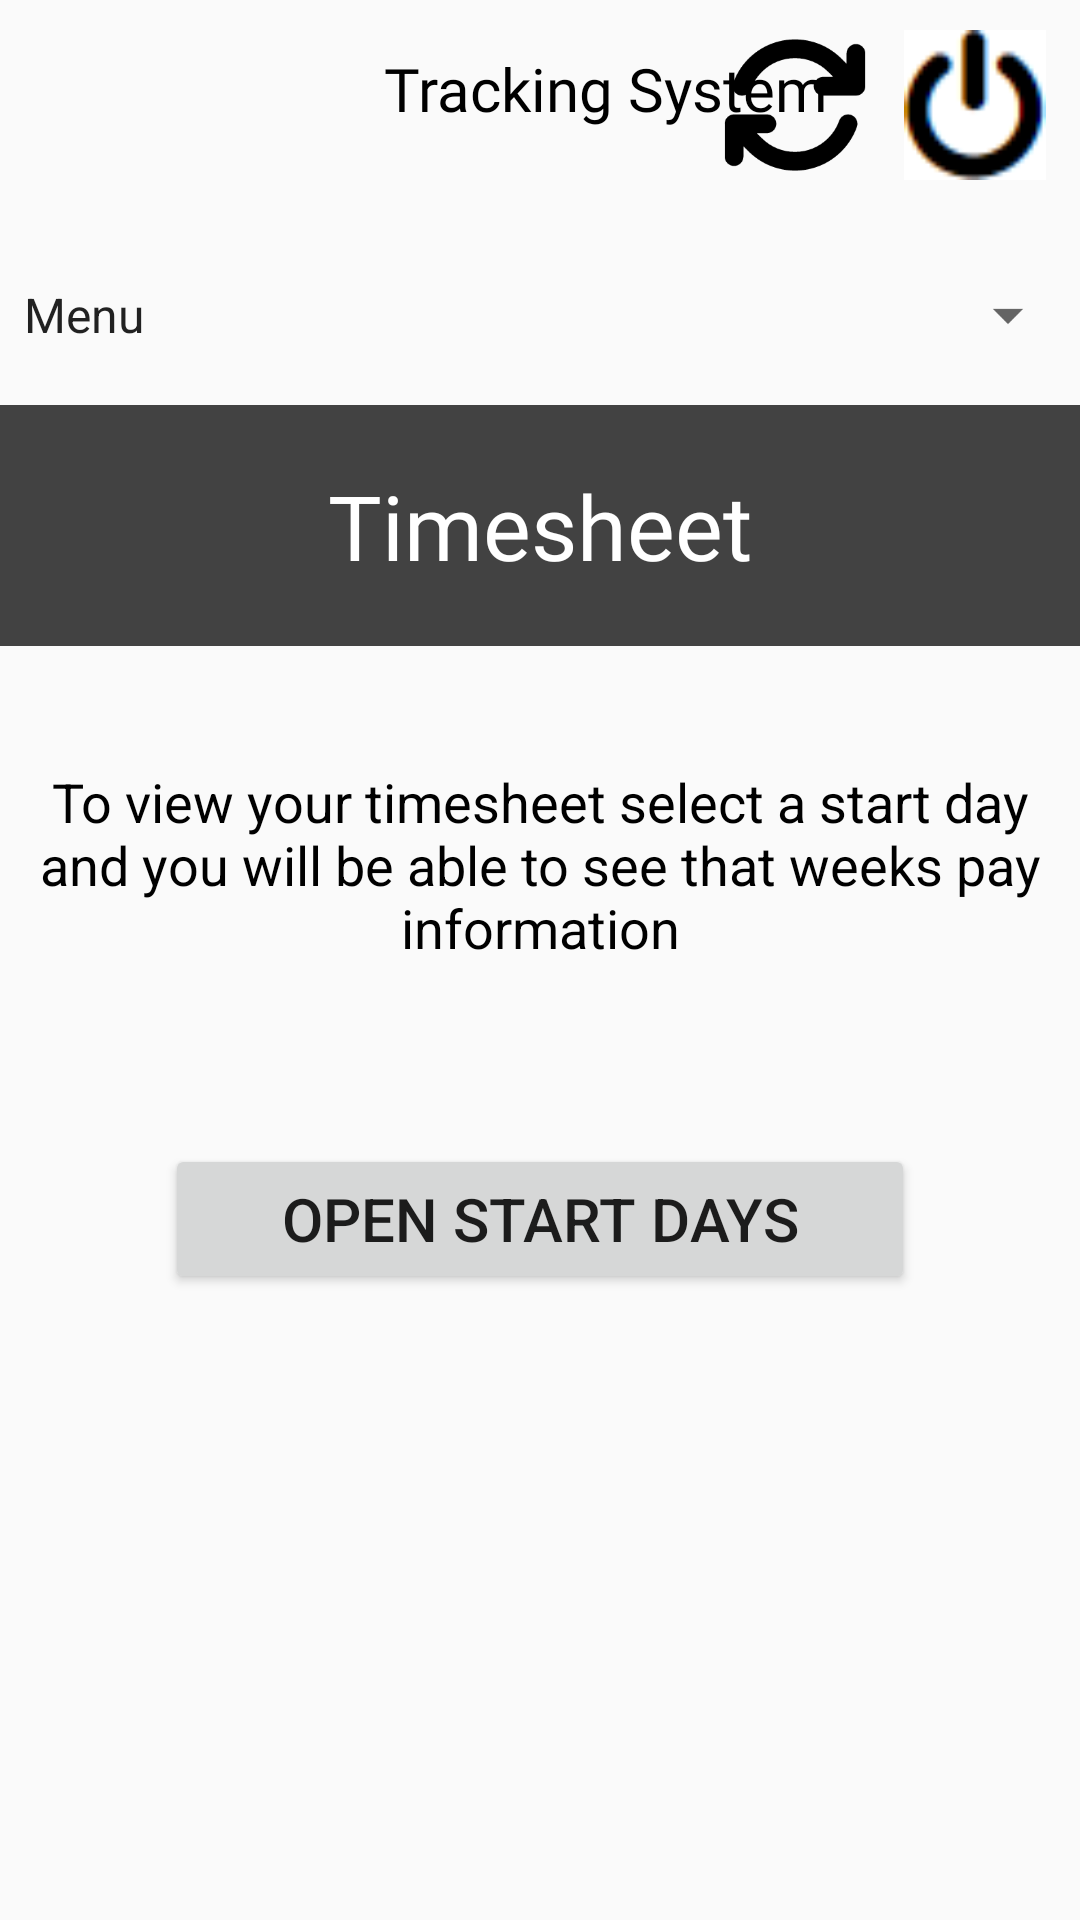

Locate icon controls on the screen. Image size 1080×1920, boxes as Rect(x1, y1, x2, y2).
arrows rotate: Rect(723, 39, 866, 171)
